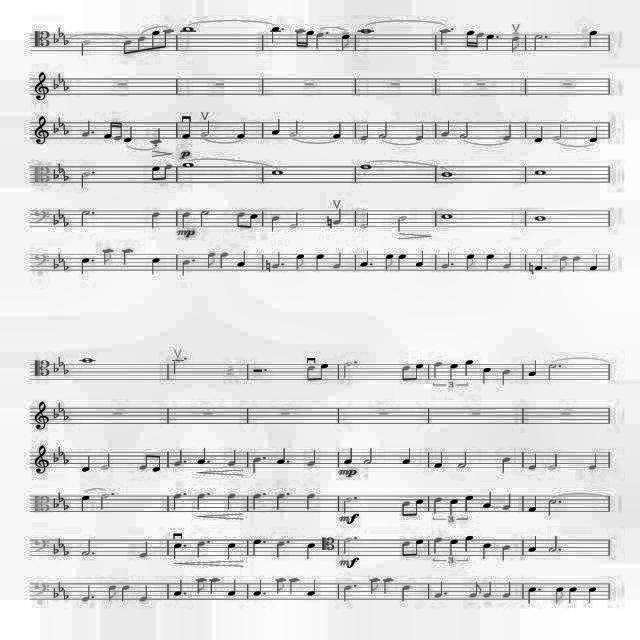Bass-clef: (28, 534, 52, 564), (32, 206, 50, 234), (31, 580, 51, 604), (33, 250, 49, 274)
Eighth-note: (316, 356, 332, 392), (458, 249, 478, 277), (150, 450, 166, 482), (162, 162, 178, 192), (293, 244, 307, 276), (397, 360, 413, 388), (549, 582, 565, 610), (134, 451, 150, 479), (337, 29, 353, 57), (380, 249, 396, 275), (204, 250, 218, 278), (466, 580, 482, 604), (414, 357, 426, 388), (397, 494, 411, 520), (410, 493, 424, 517), (274, 578, 288, 602), (160, 24, 172, 52), (120, 34, 136, 54), (412, 536, 424, 562), (150, 28, 162, 54), (248, 212, 262, 234), (135, 30, 145, 59), (511, 33, 523, 57), (148, 164, 160, 188), (234, 208, 246, 232), (104, 585, 116, 609), (558, 255, 570, 279), (102, 246, 116, 266), (369, 576, 381, 598), (399, 538, 411, 558), (304, 365, 316, 383)
Full-note: (178, 20, 200, 40), (80, 352, 96, 372), (532, 212, 552, 228), (439, 211, 459, 225), (359, 26, 379, 40), (180, 160, 196, 172), (359, 162, 375, 174), (534, 168, 550, 180), (272, 165, 284, 179), (440, 168, 452, 180)
Full-rest: (300, 78, 324, 99), (556, 404, 584, 422), (465, 404, 487, 424), (107, 405, 131, 423), (372, 406, 398, 422), (472, 76, 496, 92), (278, 408, 298, 424), (208, 80, 232, 92), (386, 78, 409, 90), (560, 80, 576, 96), (198, 407, 218, 419), (112, 79, 130, 91)
Half-note: (197, 205, 215, 235), (393, 212, 411, 240), (286, 209, 306, 233), (358, 210, 374, 238), (459, 122, 476, 148), (97, 490, 111, 518), (78, 38, 94, 62), (529, 32, 545, 56), (544, 497, 560, 521), (78, 163, 92, 189), (361, 447, 377, 469), (344, 358, 356, 387), (457, 448, 471, 472), (548, 532, 560, 560), (339, 534, 353, 558), (102, 454, 118, 474), (544, 454, 560, 474), (79, 203, 89, 233), (546, 359, 558, 383), (80, 540, 92, 564), (200, 122, 212, 142), (290, 120, 302, 140), (377, 124, 389, 144), (172, 356, 184, 376), (556, 124, 564, 148), (342, 495, 352, 511)
Half-rest: (252, 362, 266, 386)
Quarter-note: (569, 242, 585, 282), (146, 252, 166, 284), (329, 250, 349, 280), (524, 359, 544, 389), (480, 249, 500, 279), (480, 536, 496, 572), (461, 355, 477, 389), (463, 489, 481, 518), (314, 246, 330, 278), (498, 359, 514, 387), (342, 442, 358, 470), (249, 576, 265, 604), (276, 538, 292, 566), (480, 576, 496, 604), (170, 492, 186, 520), (414, 248, 430, 276), (588, 252, 604, 280), (216, 250, 232, 278), (499, 121, 517, 145), (268, 250, 286, 274), (534, 247, 546, 283), (150, 204, 166, 230), (430, 446, 446, 472), (524, 490, 540, 516), (120, 244, 136, 270), (266, 23, 282, 49), (396, 250, 410, 278), (195, 538, 209, 566), (226, 490, 240, 518), (439, 24, 453, 52), (233, 250, 249, 274), (75, 494, 91, 518), (77, 454, 93, 478), (304, 447, 320, 471), (432, 534, 444, 566), (462, 534, 478, 558), (498, 454, 514, 478), (522, 452, 538, 476), (304, 540, 320, 564), (401, 580, 413, 612), (583, 24, 599, 48), (172, 442, 184, 473), (586, 444, 598, 474), (226, 447, 242, 469), (484, 30, 496, 59), (150, 120, 162, 148), (360, 118, 372, 146), (179, 256, 193, 280), (360, 248, 372, 276), (480, 364, 494, 388), (400, 446, 414, 470), (502, 489, 514, 517), (120, 582, 132, 610), (139, 578, 151, 606), (307, 578, 321, 602), (138, 540, 150, 568), (434, 574, 446, 602), (566, 582, 578, 610), (586, 580, 598, 608), (193, 493, 207, 517), (124, 122, 136, 150), (588, 118, 600, 146), (314, 28, 326, 56), (432, 492, 442, 524), (442, 246, 452, 278), (238, 116, 250, 142), (331, 120, 343, 146), (529, 531, 541, 557), (288, 577, 300, 603), (451, 534, 462, 562), (482, 488, 493, 516), (449, 490, 459, 520), (270, 114, 282, 138), (532, 124, 544, 148), (447, 364, 459, 388), (500, 542, 512, 566), (174, 574, 186, 598), (208, 572, 220, 596), (341, 582, 353, 606), (384, 573, 396, 597), (251, 491, 263, 515), (78, 250, 90, 274), (441, 114, 451, 142), (228, 576, 238, 604), (226, 542, 240, 562), (527, 582, 537, 610), (274, 449, 288, 469), (503, 246, 513, 274), (270, 210, 282, 233), (274, 491, 286, 514), (414, 120, 426, 142), (252, 453, 264, 475), (82, 584, 95, 604), (182, 121, 194, 141), (181, 208, 191, 232), (332, 210, 344, 230), (430, 360, 442, 380), (251, 538, 263, 558), (304, 492, 316, 512), (503, 580, 513, 604), (81, 119, 93, 139), (199, 446, 207, 474), (173, 541, 183, 563)
Quarter-rest: (221, 362, 235, 382)
Sixteenth-note: (474, 25, 486, 59), (102, 118, 114, 150), (294, 27, 306, 55), (465, 28, 475, 56), (114, 118, 122, 146), (306, 27, 314, 55)
Treble-clef: (26, 398, 50, 436), (32, 115, 52, 148), (31, 71, 51, 103), (30, 448, 50, 480)
